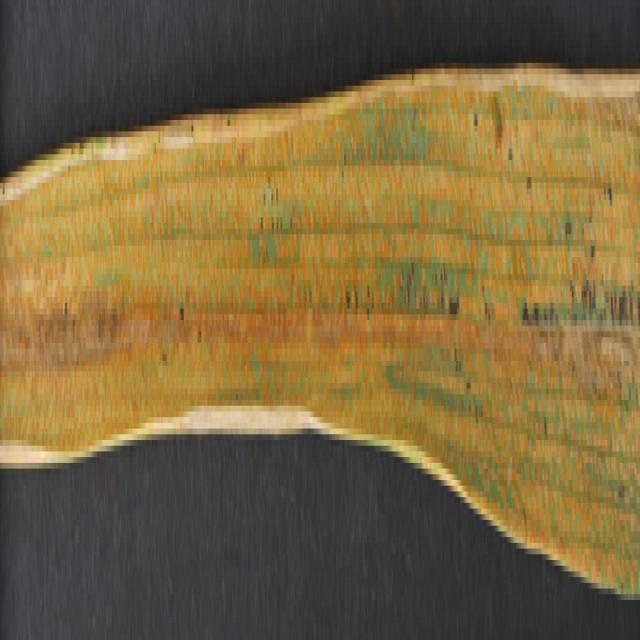leaf rust: (1, 69, 640, 594)
